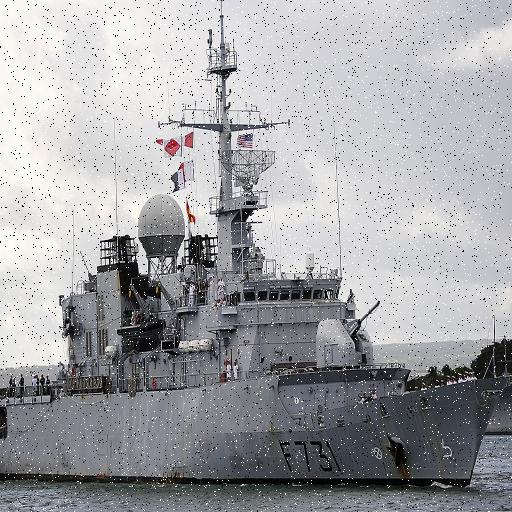Fragata: (1, 1, 510, 498)
